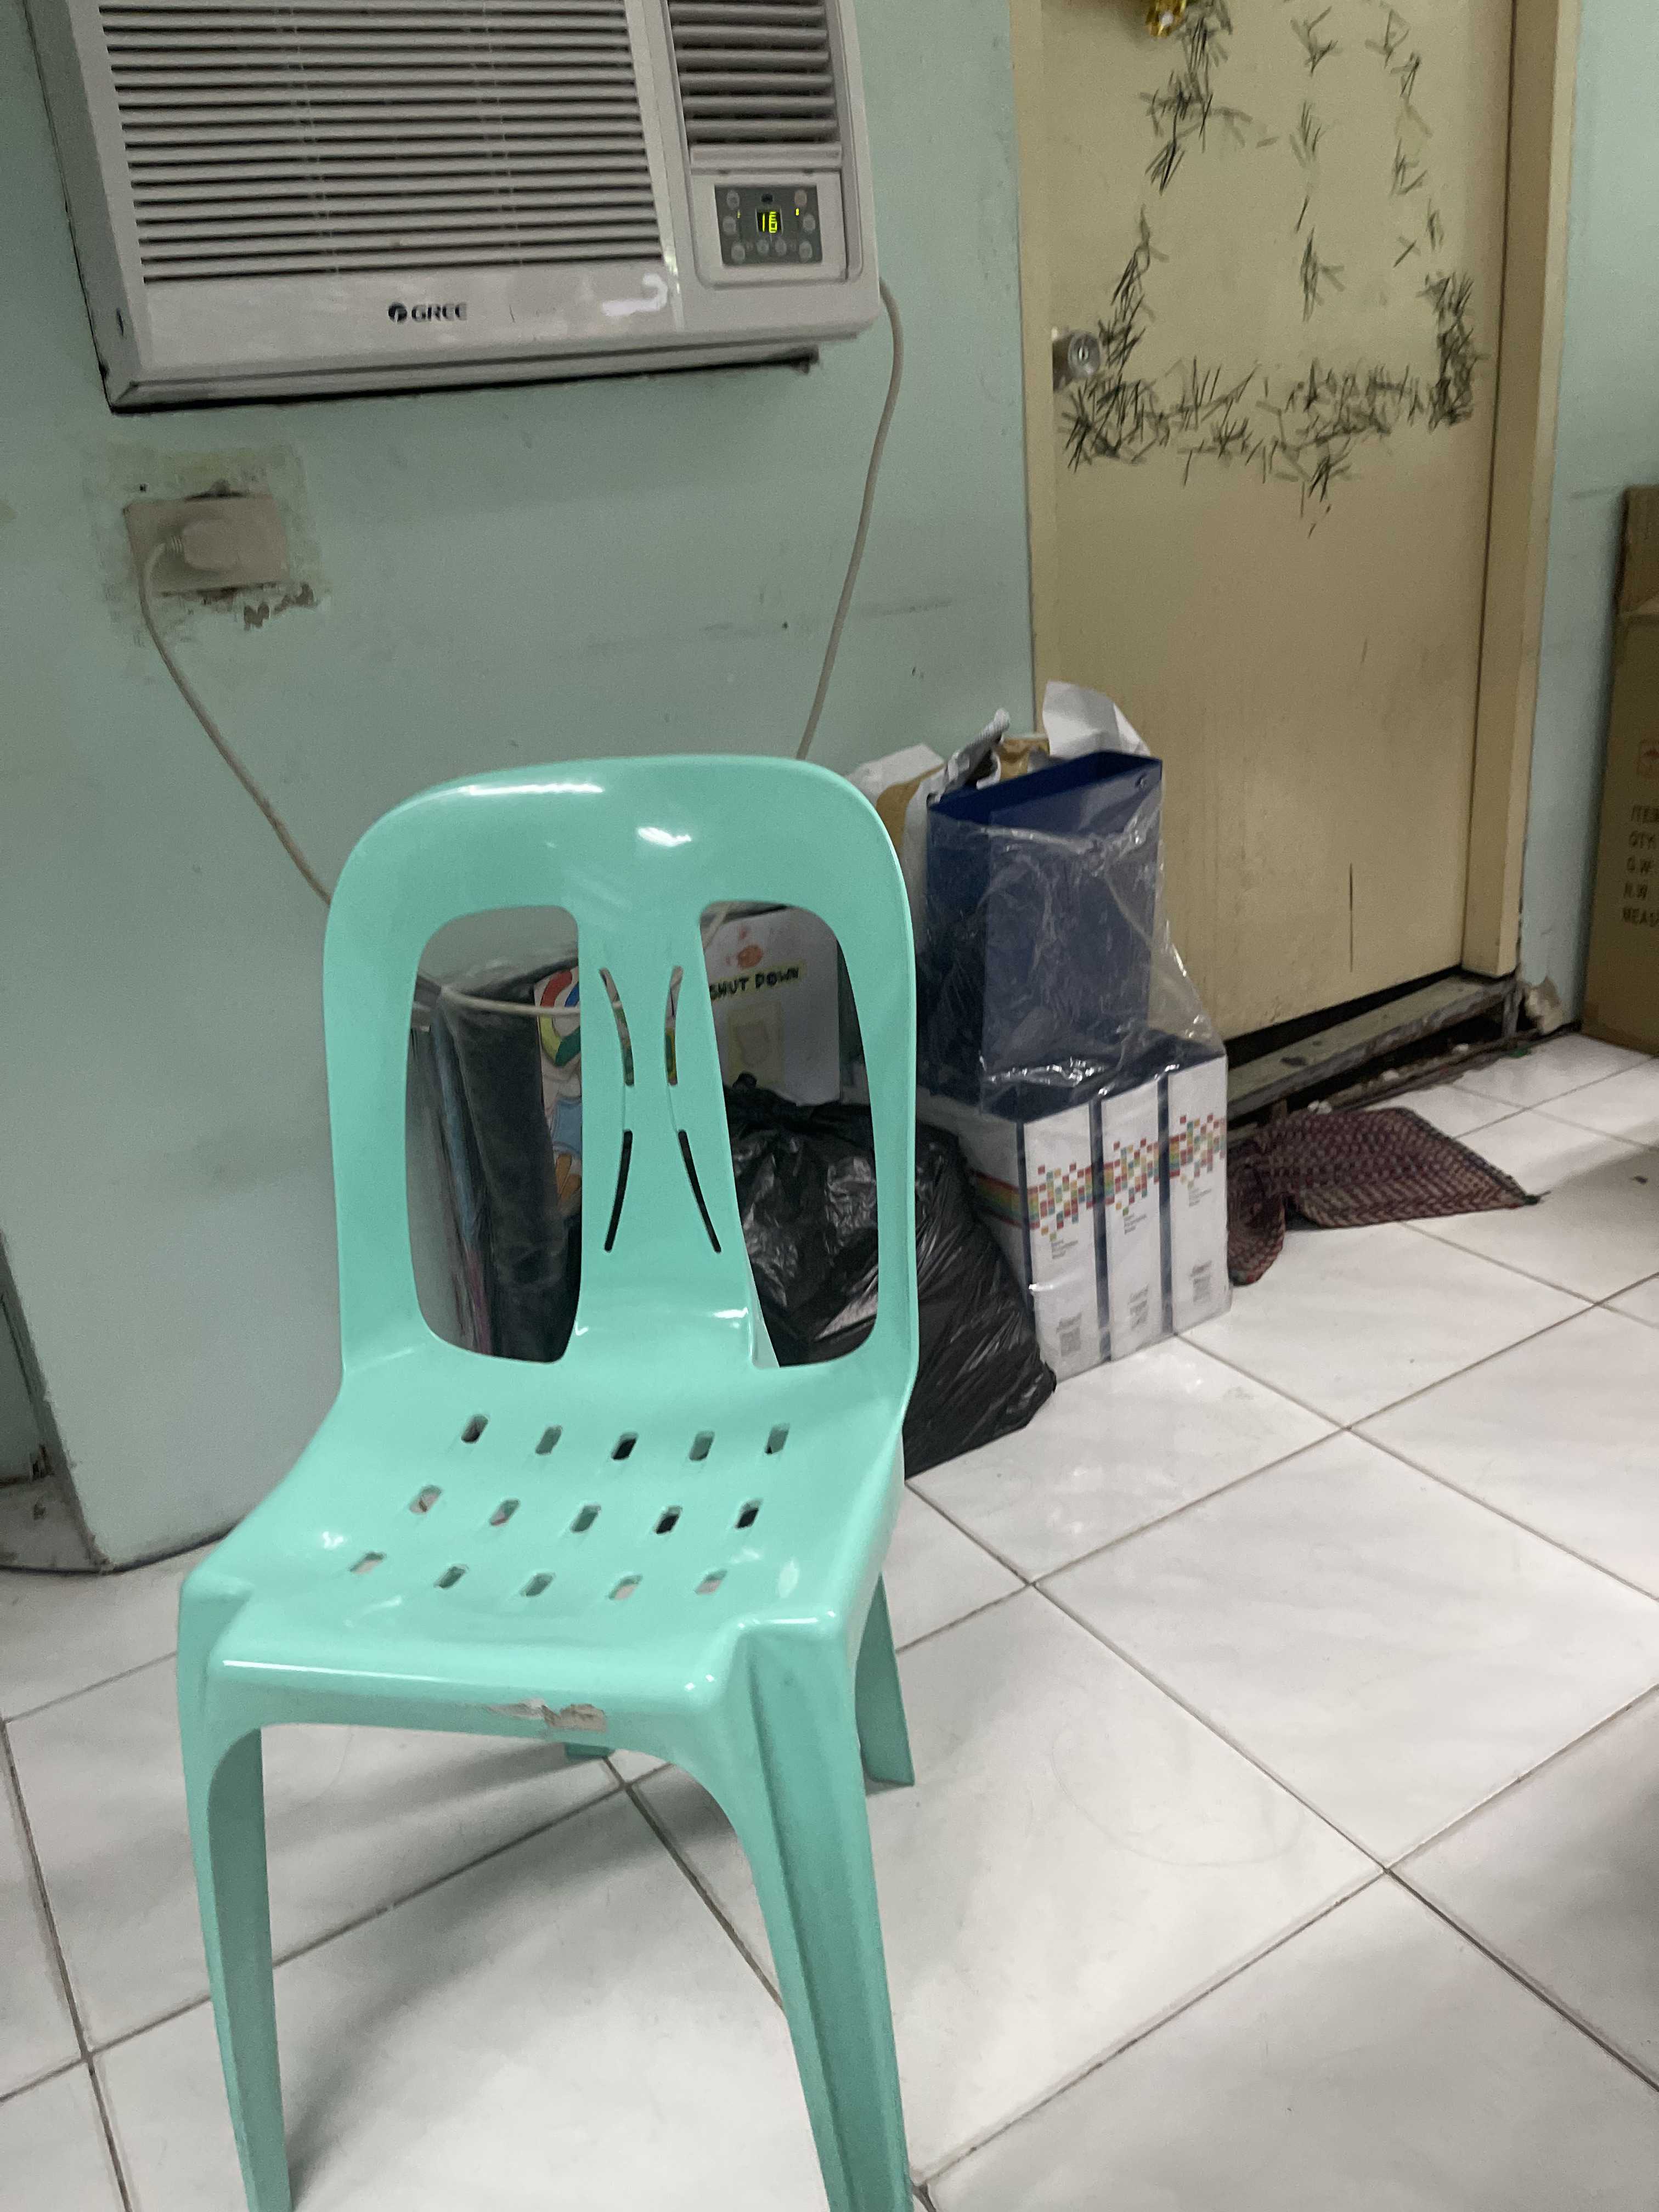chair2: (164, 745, 958, 2212)
